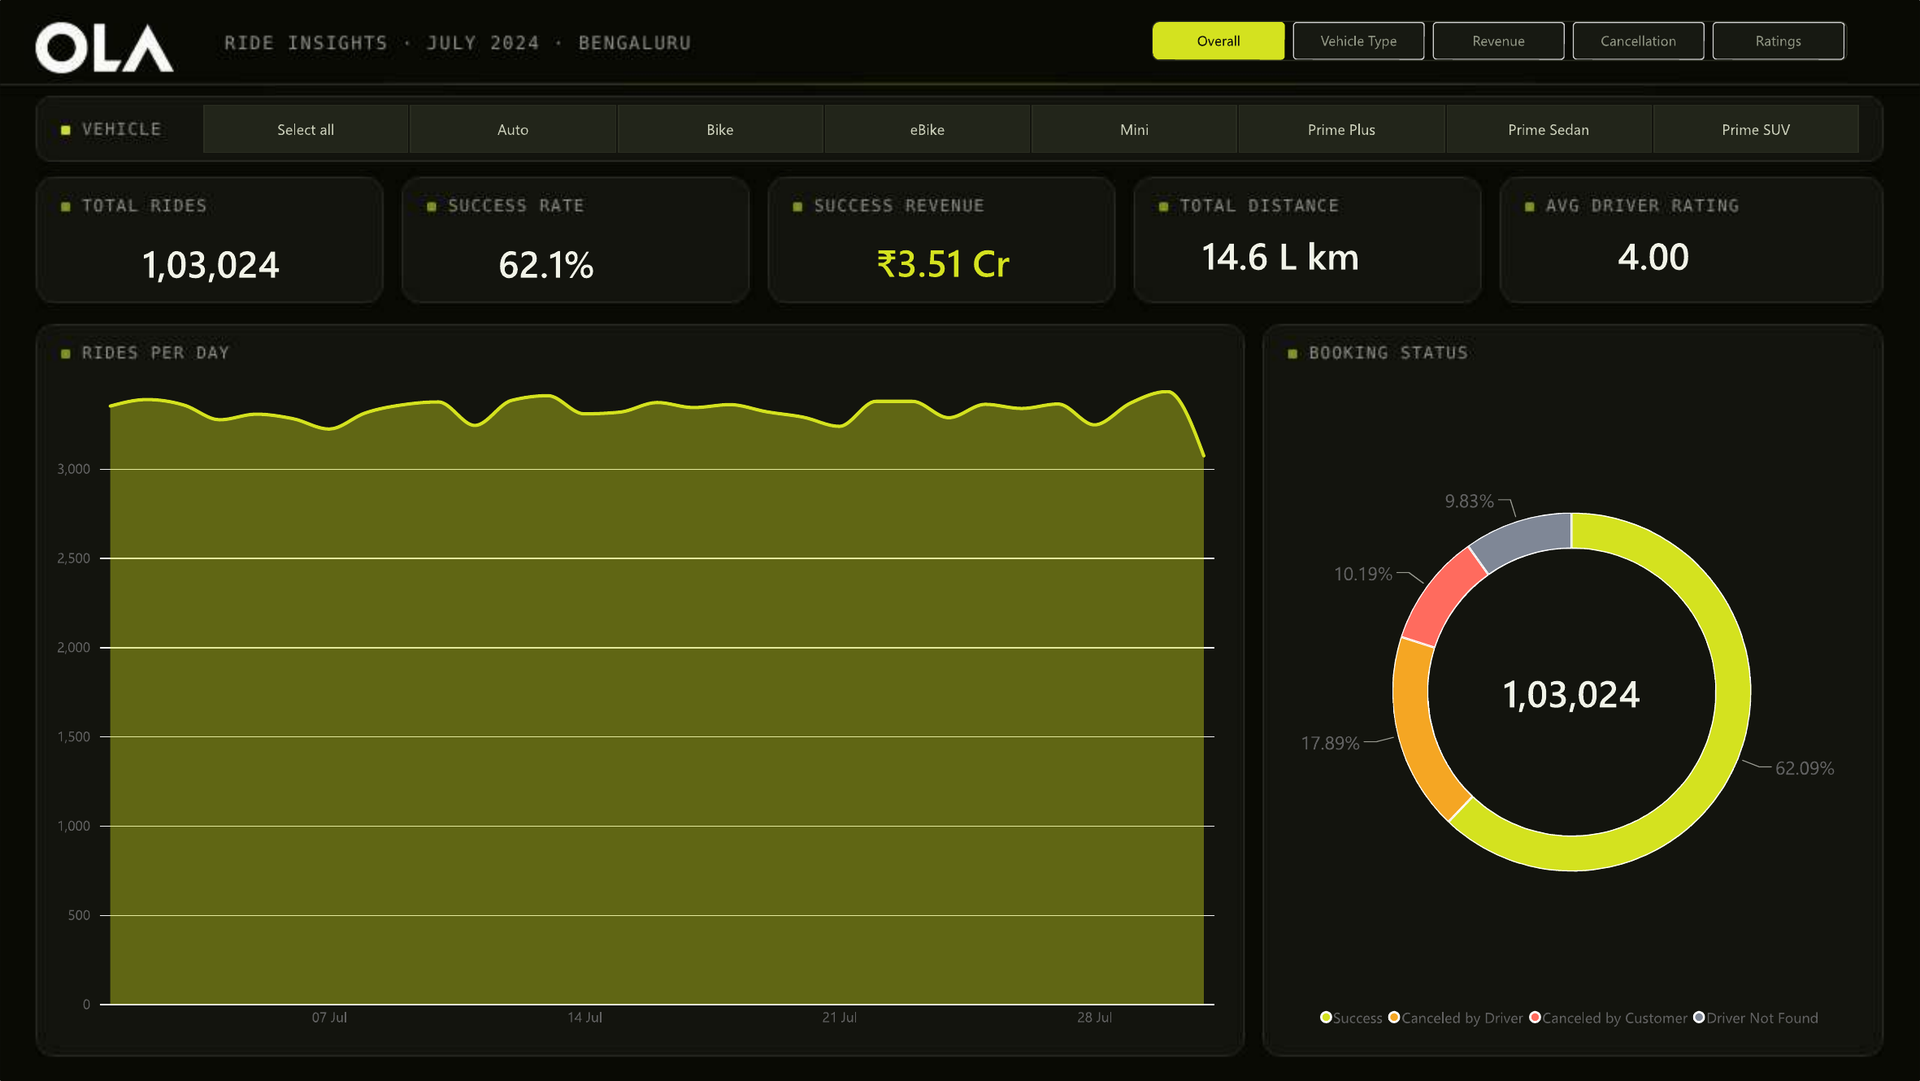

This screenshot's page, from the dashboard's own definition file:
{"tool":"powerbi","page":{"name":"Overall","canvas":[1920,1080],"ordinal":0},"visuals":[{"type":"slicer","fields":{"Values":["ola_db bookings.Vehicle_Type"]},"box":[182,102,1696,52],"z":0},{"type":"cardVisual","fields":{"Data":["_Measures.Total Rides"]},"box":[126,218,176,86],"z":1000},{"type":"cardVisual","fields":{"Data":["_Measures.Success Rate %"]},"box":[482,220,202,82],"z":2000},{"type":"cardVisual","fields":{"Data":["_Measures.Success Revenue Cr"]},"box":[860,218,190,84],"z":3000},{"type":"cardVisual","fields":{"Data":["_Measures.Total Distance L km"]},"box":[1186,218,282,70],"z":4000},{"type":"cardVisual","fields":{"Data":["_Measures.Avg Driver Rating"]},"box":[1602,218,174,70],"z":5000},{"type":"areaChart","fields":{"Category":["ola_db bookings.Booking_Date"],"Y":["_Measures.Total Rides"]},"box":[40,368,1198,680],"z":6000},{"type":"donutChart","fields":{"Category":["ola_db bookings.Booking_Status"],"Y":["_Measures.Total Rides"]},"box":[1266,368,612,680],"z":7000},{"type":"pageNavigator","box":[1152,20,696,40],"z":8000}]}

Visuals, with their boxes in screenshot pixels (x1, y1, x2, y2), scaled from the page's 1920x1080 canvas onto the 1920x1081 screenshot:
slicer - ola_db bookings.Vehicle_Type: <bbox>182, 102, 1878, 154</bbox>
cardVisual - _Measures.Total Rides: <bbox>126, 218, 302, 304</bbox>
cardVisual - _Measures.Success Rate %: <bbox>482, 220, 684, 302</bbox>
cardVisual - _Measures.Success Revenue Cr: <bbox>860, 218, 1050, 302</bbox>
cardVisual - _Measures.Total Distance L km: <bbox>1186, 218, 1468, 288</bbox>
cardVisual - _Measures.Avg Driver Rating: <bbox>1602, 218, 1776, 288</bbox>
areaChart - ola_db bookings.Booking_Date x _Measures.Total Rides: <bbox>40, 368, 1238, 1049</bbox>
donutChart - ola_db bookings.Booking_Status x _Measures.Total Rides: <bbox>1266, 368, 1878, 1049</bbox>
pageNavigator: <bbox>1152, 20, 1848, 60</bbox>
